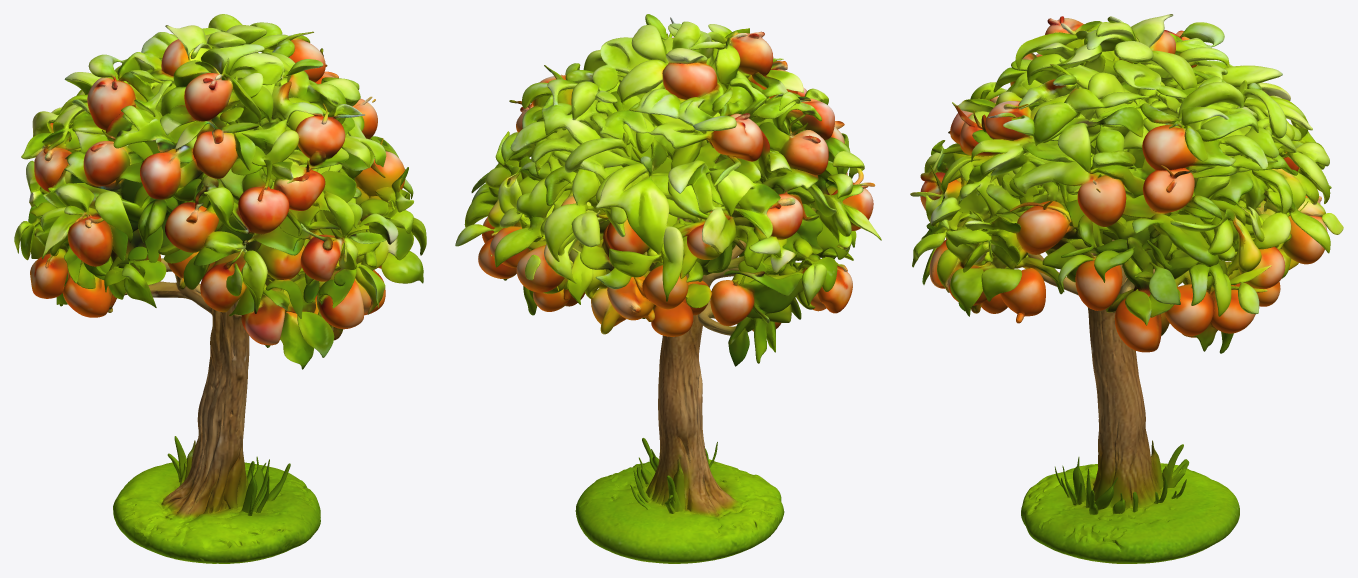
Rendered from base_basic_pbr.fbx.
The picture shows the model from 3 angles, left to right: view 1: azimuth 30°, elevation 25°; view 2: azimuth 150°, elevation 25°; view 3: azimuth 270°, elevation 25°; orthographic projection. The views are drawn at different scales.
Parts seen in each view (by area): view 1: model; view 2: model; view 3: model.
Part boxes in pixels (x1,y1,x2,y2): model: [14, 14, 426, 563]; model: [455, 14, 881, 563]; model: [910, 14, 1343, 563].
Size of the model in its own units: 150 by 189 by 148.
1 material, 1 textured.
